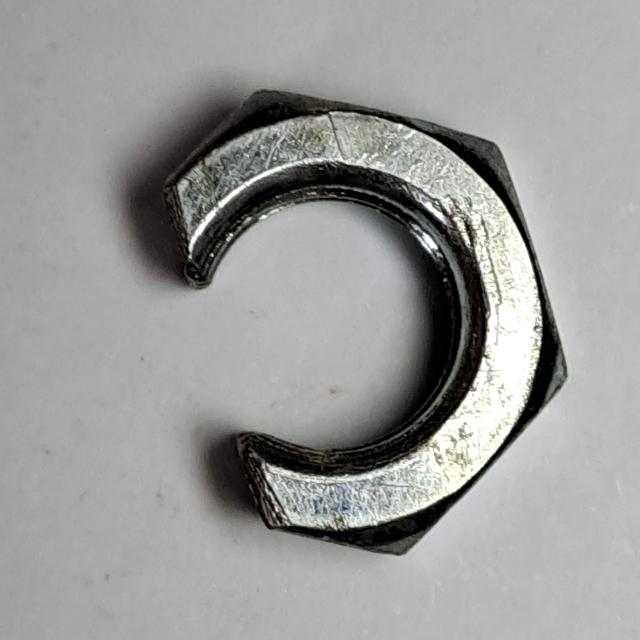Fracture: (153, 79, 578, 572)
